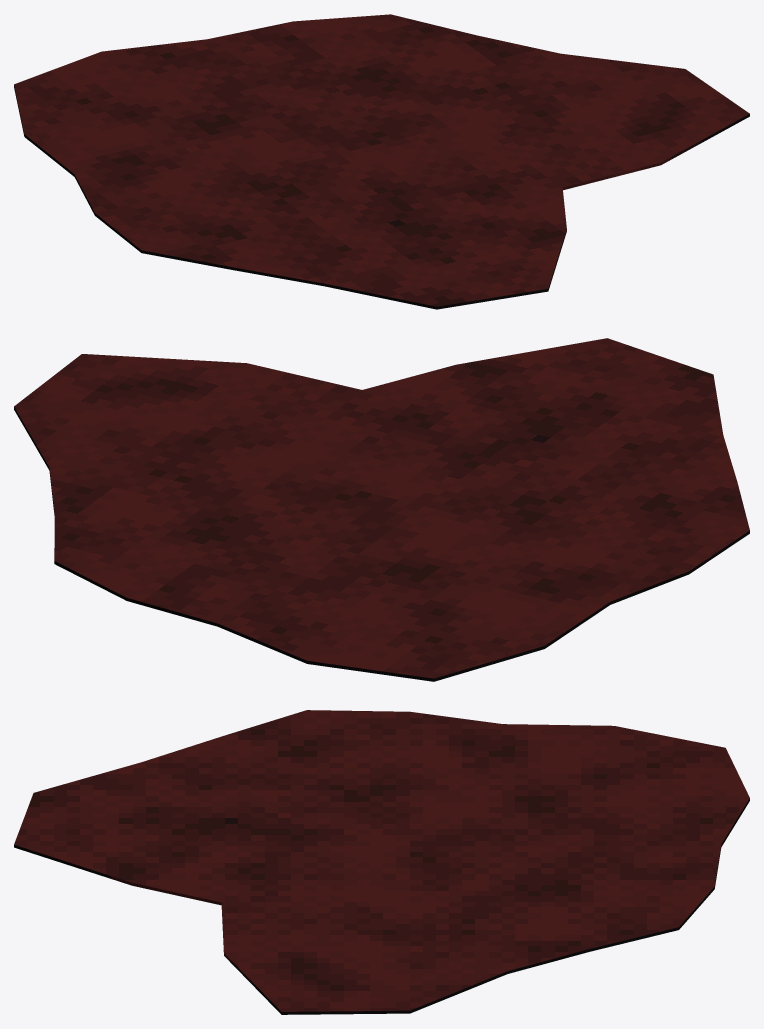
The model's file is Blood_Pool_01.glb.
3 renders of one model, top to bottom at view 1: azimuth 30°, elevation 25°; view 2: azimuth 150°, elevation 25°; view 3: azimuth 270°, elevation 25°, orthographic. The views are drawn at different scales.
Visible parts, largest first — view 1: Blood_Pool_01; view 2: Blood_Pool_01; view 3: Blood_Pool_01.
Part boxes in pixels (bbox=[...]): Blood_Pool_01: bbox=[14, 14, 749, 309]; Blood_Pool_01: bbox=[14, 338, 749, 681]; Blood_Pool_01: bbox=[14, 710, 749, 1014].
Size of the model in its own units: 0.8928 by 0.004 by 0.9198.
Materials: 1 (1 with a texture image).
